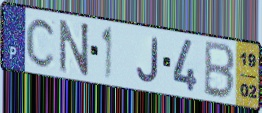1: (100, 25, 117, 84)
4: (171, 38, 201, 95)
B: (202, 39, 237, 102)
C: (24, 16, 58, 70)
J: (135, 35, 160, 85)
N: (58, 17, 91, 77)
